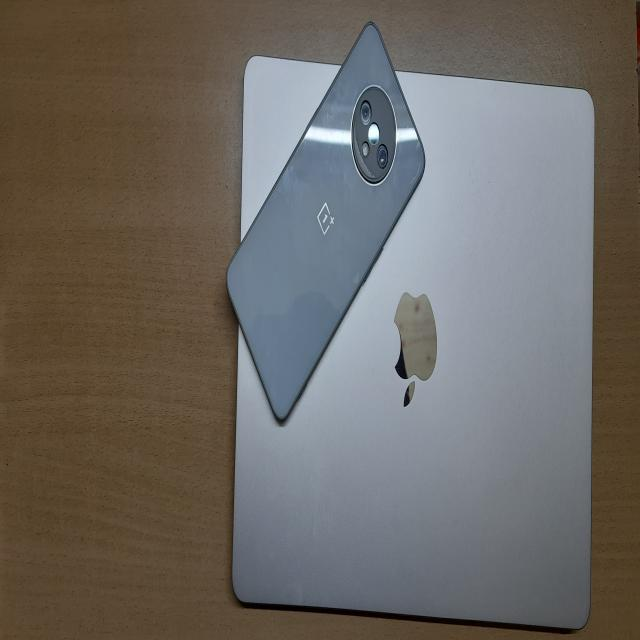Laptop-and-Mobile: (228, 21, 618, 640)
Mobile: (226, 19, 425, 428)
